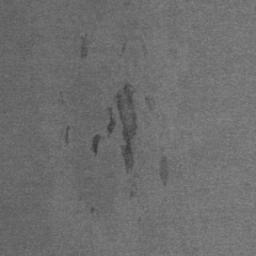Iron scale compression: (118, 84, 138, 173), (80, 36, 91, 59), (159, 155, 166, 185), (109, 107, 116, 136), (92, 134, 101, 156), (66, 125, 74, 142)
